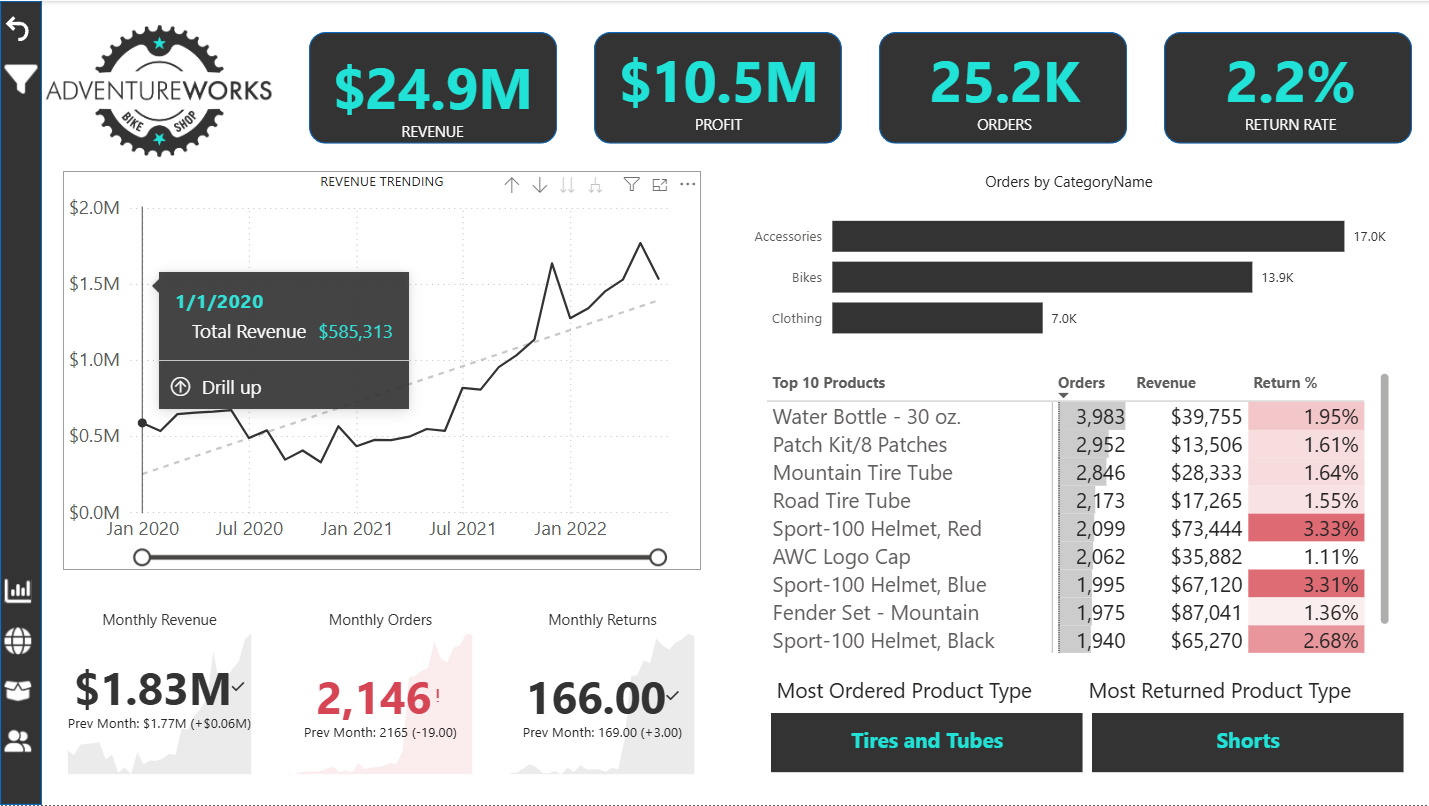

Layout of this report page (visuals, bound fields, positions):
{"tool":"powerbi","page":{"name":"Exec Dashboard","canvas":[1280,720],"ordinal":0},"visuals":[{"type":"card","fields":{"Values":["Measure Table.Total Revenue"]},"box":[263.6,9.1,248.2,150],"z":0,"group":"g2"},{"type":"image","title":"AW Logo","box":[19.1,11.8,248.2,137.3],"z":0},{"type":"group","id":"g1","title":"KPI Background","box":[277.2,28.2,988,100],"z":0,"group":"g3"},{"type":"shape","box":[277.2,28.2,222.2,100],"z":0,"group":"g1"},{"type":"shape","title":"Left Nav Background","box":[0,0,37.6,720],"z":1000},{"type":"group","id":"g2","title":"KPI Values","box":[263.6,2.7,1016.4,156.4],"z":1000,"group":"g3"},{"type":"card","fields":{"Values":["Measure Table.Total Orders"]},"box":[775.7,2.7,248.2,150],"z":1000,"group":"g2"},{"type":"shape","box":[532.5,28.2,222,100],"z":1000,"group":"g1"},{"type":"group","id":"g3","title":"KPIs","box":[263.6,2.7,1016.4,156.4],"z":2000},{"type":"card","fields":{"Values":["Measure Table.Total Profit"]},"box":[519.7,2.7,248.2,150],"z":2000,"group":"g2"},{"type":"shape","box":[787.8,28.2,222.2,100],"z":2000,"group":"g1"},{"type":"card","fields":{"Values":["Measure Table.Return Rate"]},"box":[1031.8,2.7,248.2,150],"z":3000,"group":"g2"},{"type":"shape","box":[1043,28.2,222.2,100],"z":3000,"group":"g1"},{"type":"lineChart","title":"REVENUE TRENDING","fields":{"Category":["Calendar Lookup.Year","Calendar Lookup.Start of Quarter","Calendar Lookup.Start of Month"],"Y":["Measure Table.Total Revenue"]},"box":[56.4,152.2,571.3,357.3],"z":3000},{"type":"kpi","title":"Monthly Revenue","fields":{"Goal":["Measure Table.Previous Month Revenue"],"Indicator":["Measure Table.Total Revenue"],"TrendLine":["Calendar Lookup.Start of Month"]},"box":[55.5,544.5,174.6,153.1],"z":4000},{"type":"kpi","title":"Monthly Orders","fields":{"Goal":["Measure Table.Previous Month Orders"],"Indicator":["Measure Table.Total Orders"],"TrendLine":["Calendar Lookup.Start of Month"]},"box":[253.4,544.5,174.6,153.1],"z":5000},{"type":"kpi","title":"Monthly Returns","fields":{"Goal":["Measure Table.Previous Month Returns"],"Indicator":["Measure Table.Total Returns"],"TrendLine":["Calendar Lookup.Start of Month"]},"box":[452.2,544.5,174.6,153.1],"z":6000},{"type":"clusteredBarChart","title":"Orders by CategoryName","fields":{"Category":["Product Categories Lookup.CategoryName"],"Y":["Measure Table.Total Orders"]},"box":[665.4,152.6,583.6,166.6],"z":7000},{"type":"pivotTable","fields":{"Rows":["Product Lookup.ProductName"],"Values":["Measure Table.Total Orders","Measure Table.Total Revenue","Measure Table.Return Rate"]},"box":[681.5,327.8,567.8,261.5],"z":8000},{"type":"card","fields":{"Values":["Min(Product Subcategories Lookup.SubcategoryName)"]},"box":[690.4,637.6,279.4,52.8],"z":9000},{"type":"textbox","box":[690.4,599.1,257,38.5],"z":10000},{"type":"card","fields":{"Values":["Min(Product Subcategories Lookup.SubcategoryName)"]},"box":[977.9,637.6,279.4,52.8],"z":11000},{"type":"textbox","box":[969.9,599.1,246.3,38.5],"z":12000},{"type":"actionButton","box":[0,9,37.6,31.3],"z":13000},{"type":"actionButton","box":[0,512.2,37.6,32.2],"z":14000},{"type":"actionButton","box":[0,557,37.6,32.2],"z":15000},{"type":"actionButton","box":[0,601.8,37.6,32.2],"z":16000},{"type":"actionButton","box":[0,646.6,37.6,32.2],"z":17000},{"type":"actionButton","box":[0,50.1,37.6,40.3],"z":18000}]}

Visuals, with their boxes on the page's 1280x720 design canvas (x1, y1, x2, y2). These are canvas units, not pixel positions in the 1429x806 screenshot, which may show the page scaled, cropped or inside an application window:
card - Measure Table.Total Revenue: Rect(264, 9, 512, 159)
"AW Logo" image: Rect(19, 12, 267, 149)
"KPI Background" group: Rect(277, 28, 1265, 128)
shape: Rect(277, 28, 499, 128)
"Left Nav Background" shape: Rect(0, 0, 38, 720)
"KPI Values" group: Rect(264, 3, 1280, 159)
card - Measure Table.Total Orders: Rect(776, 3, 1024, 153)
shape: Rect(532, 28, 754, 128)
"KPIs" group: Rect(264, 3, 1280, 159)
card - Measure Table.Total Profit: Rect(520, 3, 768, 153)
shape: Rect(788, 28, 1010, 128)
card - Measure Table.Return Rate: Rect(1032, 3, 1280, 153)
shape: Rect(1043, 28, 1265, 128)
"REVENUE TRENDING" lineChart: Rect(56, 152, 628, 510)
"Monthly Revenue" kpi: Rect(56, 544, 230, 698)
"Monthly Orders" kpi: Rect(253, 544, 428, 698)
"Monthly Returns" kpi: Rect(452, 544, 627, 698)
"Orders by CategoryName" clusteredBarChart: Rect(665, 153, 1249, 319)
pivotTable - Product Lookup.ProductName x Measure Table.Total Orders: Rect(682, 328, 1249, 589)
card - Min(Product Subcategories Lookup.SubcategoryName): Rect(690, 638, 970, 690)
textbox: Rect(690, 599, 947, 638)
card - Min(Product Subcategories Lookup.SubcategoryName): Rect(978, 638, 1257, 690)
textbox: Rect(970, 599, 1216, 638)
actionButton: Rect(0, 9, 38, 40)
actionButton: Rect(0, 512, 38, 544)
actionButton: Rect(0, 557, 38, 589)
actionButton: Rect(0, 602, 38, 634)
actionButton: Rect(0, 647, 38, 679)
actionButton: Rect(0, 50, 38, 90)
